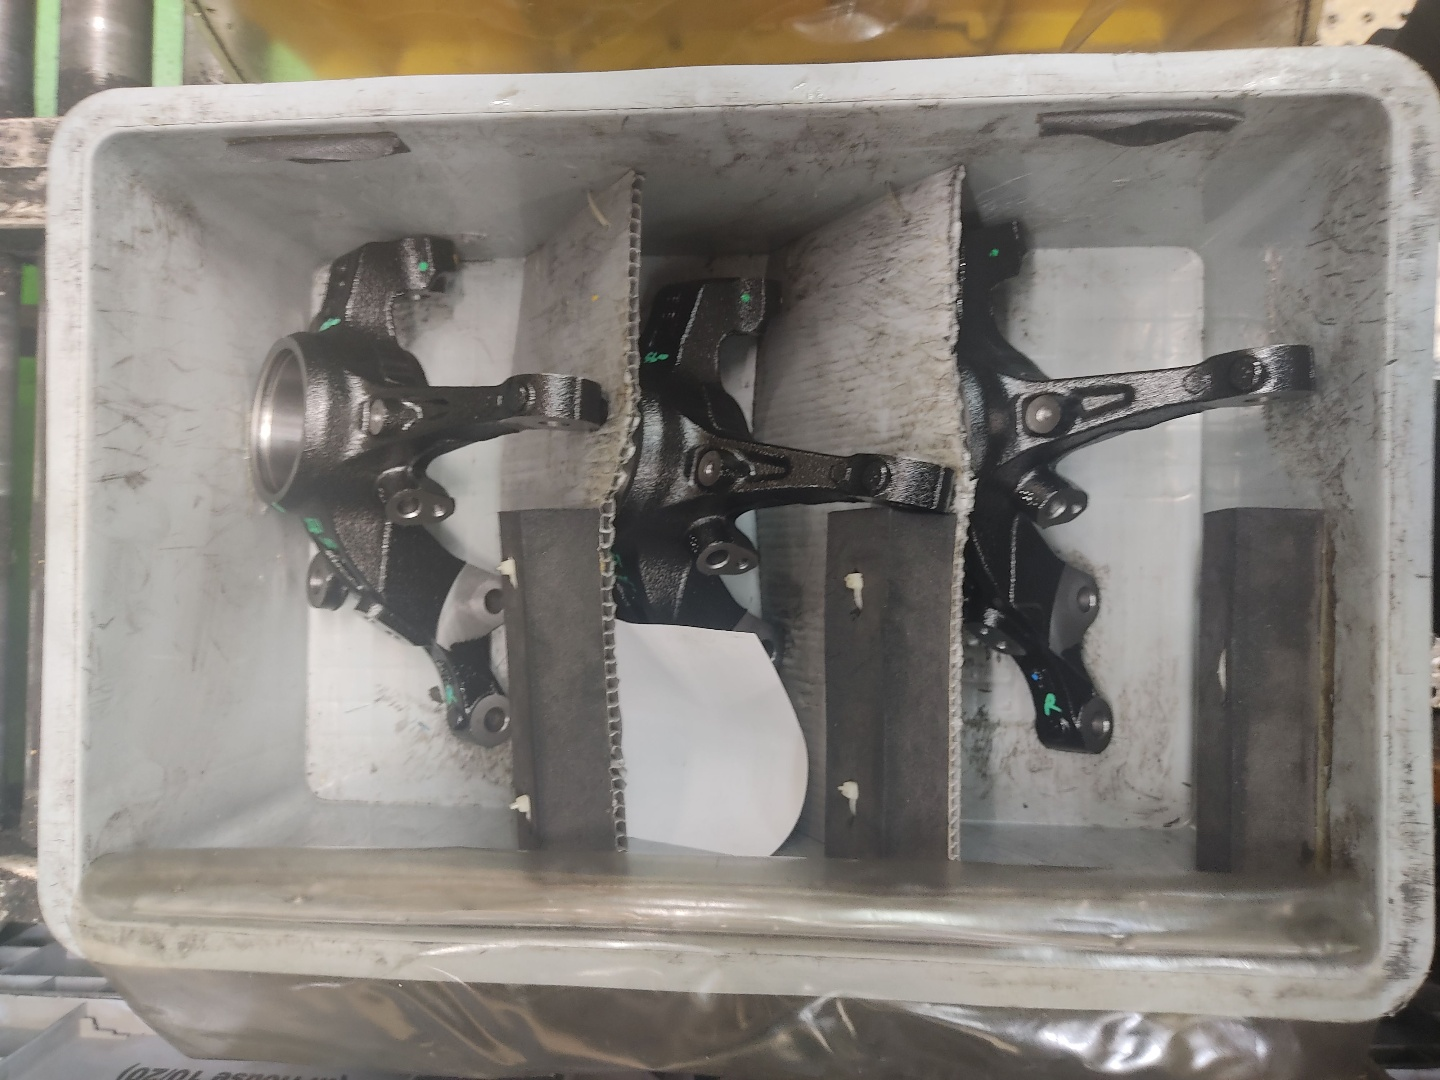abs-rh: (950, 206, 1324, 767), (240, 223, 607, 763), (617, 258, 957, 788)
